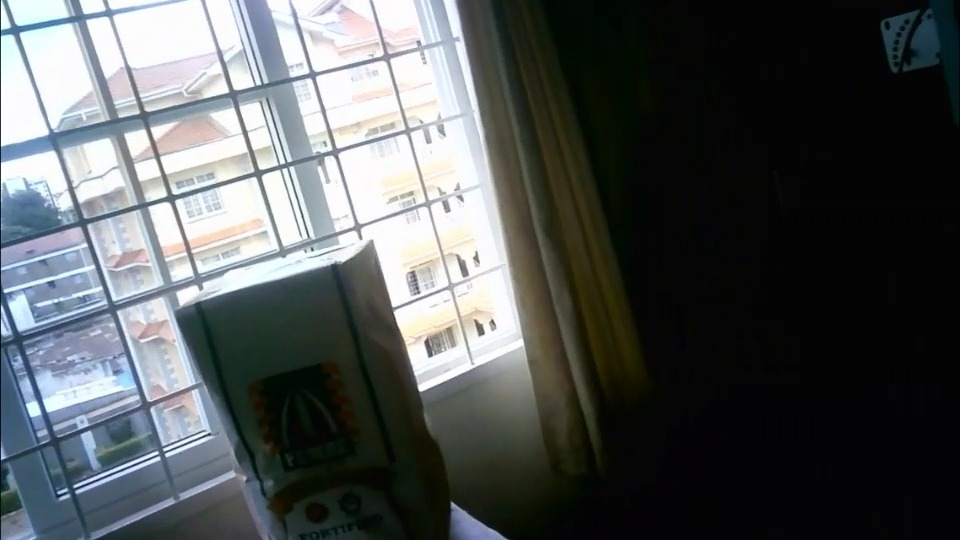maize_flour_green_label: (171, 237, 449, 540)
